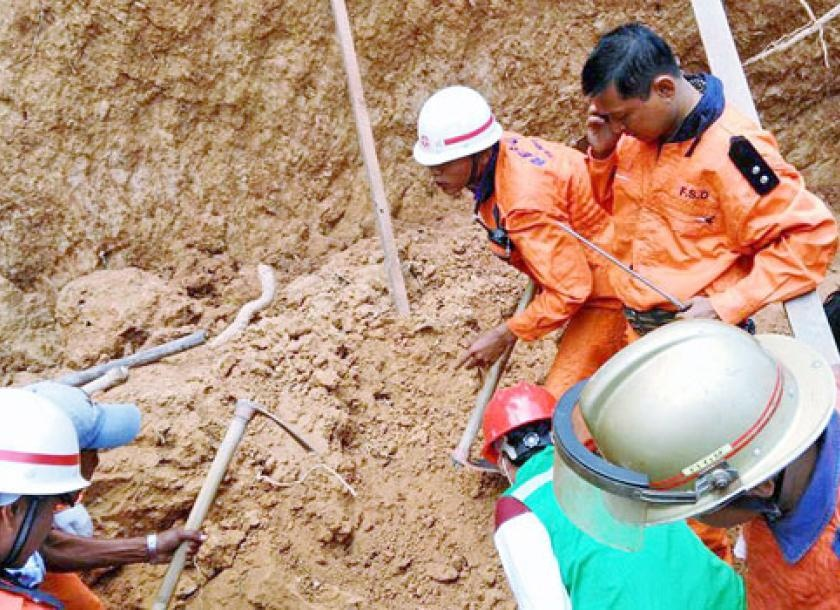none: (578, 22, 677, 141)
red: (482, 379, 560, 483)
white: (584, 316, 799, 534), (1, 385, 83, 570), (411, 85, 498, 193)
